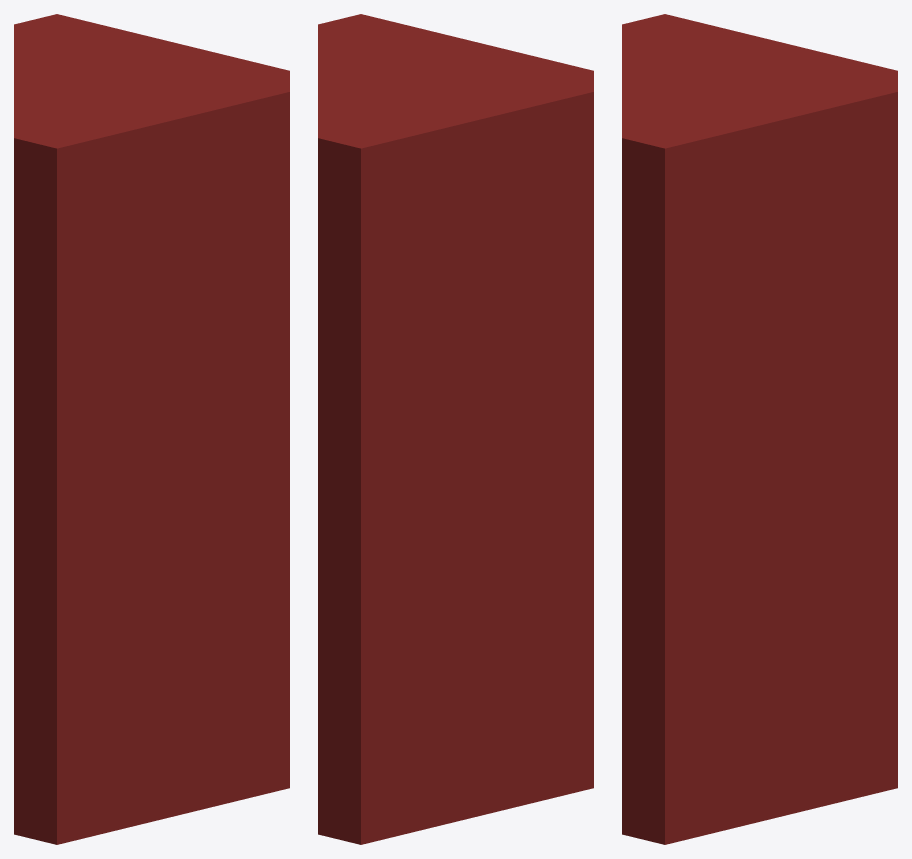
Rendered from BulletT3.fbx.
The picture shows the model from 3 angles, left to right: view 1: azimuth 30°, elevation 25°; view 2: azimuth 150°, elevation 25°; view 3: azimuth 270°, elevation 25°; orthographic projection.
Parts seen in each view (by area): view 1: Bullet; view 2: Bullet; view 3: Bullet.
Boxes of the visible parts, left/top/right/bottom form: Bullet: left=14, top=14, right=289, bottom=844; Bullet: left=318, top=14, right=593, bottom=844; Bullet: left=622, top=14, right=897, bottom=844.
Bounding box in the file's own units: 150 × 361 × 130.
